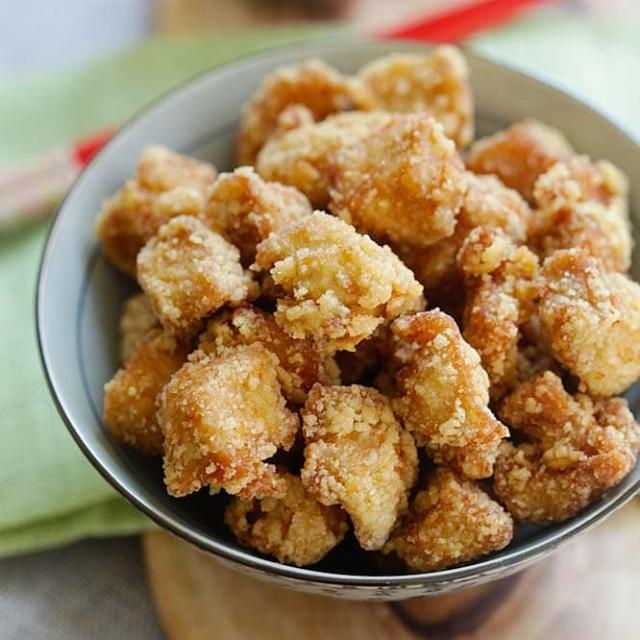Frango: (94, 38, 640, 569)
